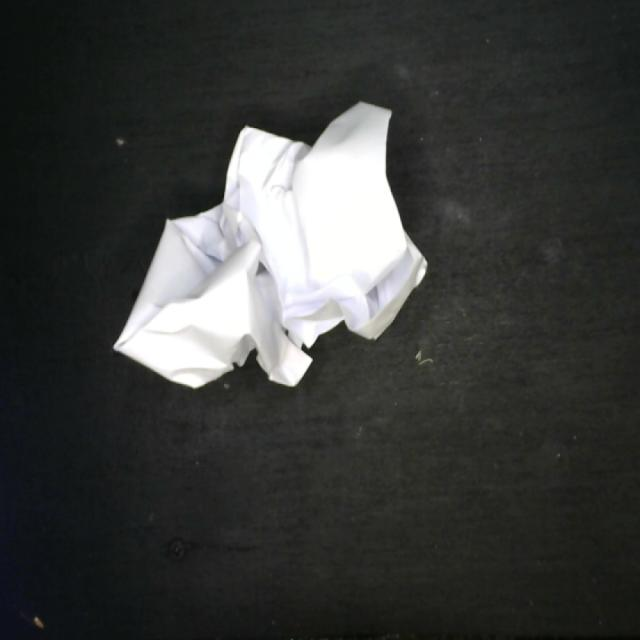biodegradable: (110, 99, 430, 393)
